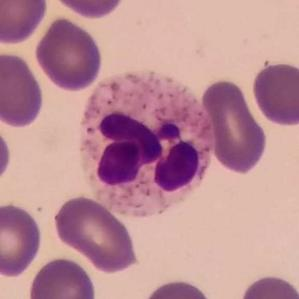Neutrophil: (78, 70, 223, 223)
RBC: (50, 193, 142, 274), (199, 76, 270, 175), (32, 15, 106, 92), (0, 49, 46, 129), (0, 200, 45, 279), (249, 59, 299, 128), (26, 254, 99, 299), (0, 0, 50, 47), (139, 276, 216, 299), (237, 272, 299, 299), (48, 0, 128, 20), (0, 120, 14, 189)
